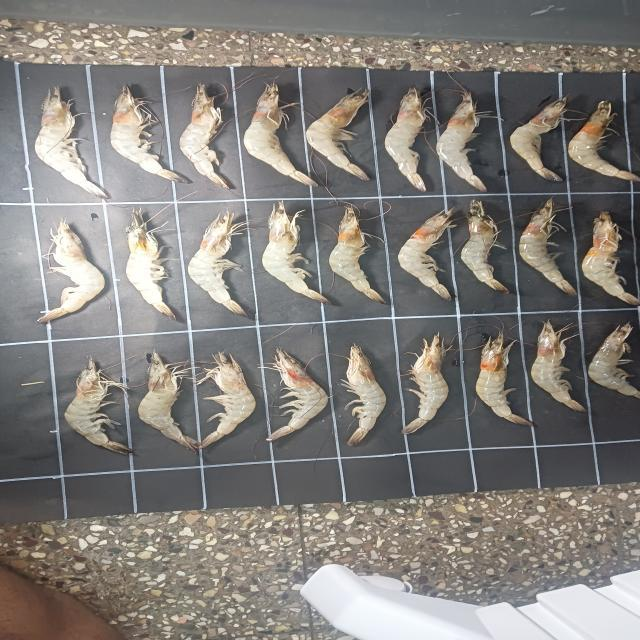shrimp: (35, 88, 108, 199), (243, 84, 317, 186), (111, 86, 188, 182), (261, 202, 330, 305), (64, 359, 135, 454), (38, 221, 104, 322), (137, 352, 199, 454), (188, 211, 248, 316), (305, 89, 370, 180), (266, 349, 328, 441), (569, 101, 640, 181), (197, 352, 255, 449), (518, 200, 576, 295), (582, 211, 640, 306), (126, 210, 175, 320), (330, 206, 385, 304), (476, 332, 533, 426), (179, 84, 230, 189), (398, 209, 456, 300), (436, 92, 487, 192), (509, 96, 567, 181), (401, 334, 449, 434), (531, 321, 584, 411), (460, 200, 509, 294), (385, 88, 427, 191), (343, 345, 385, 446), (589, 324, 640, 398)
